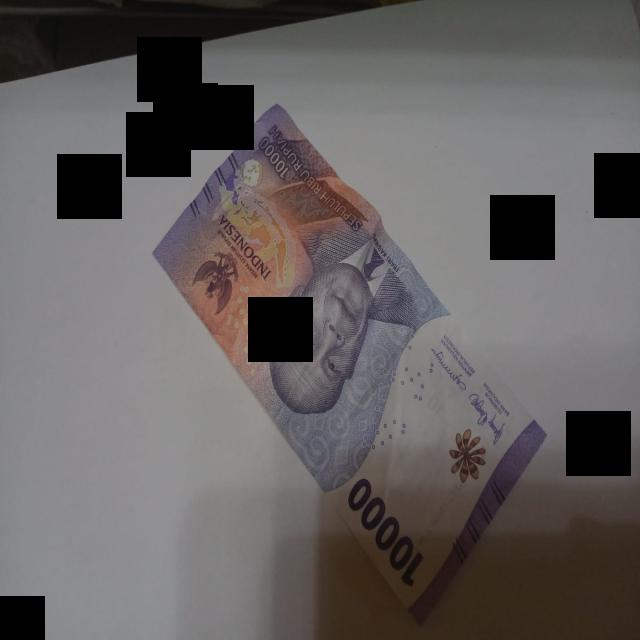sepuluhribu rupiah: (154, 105, 545, 620)
